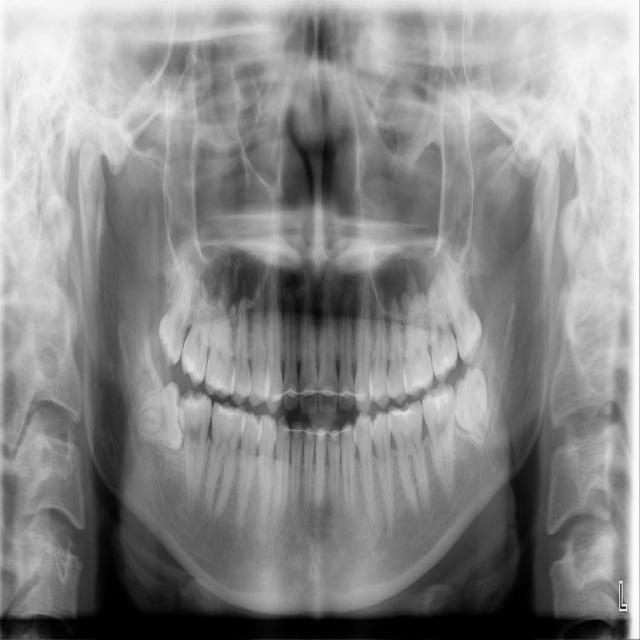3M ESPE Implant: (152, 243, 203, 368)
52: (384, 399, 430, 446), (201, 350, 240, 402), (399, 349, 436, 400), (208, 399, 248, 445), (421, 380, 457, 431), (430, 331, 461, 384), (181, 334, 207, 388)
73: (570, 598, 574, 606)
BioHorizons Implant: (424, 255, 461, 384)
BioLife Implant: (429, 249, 492, 366)
Biomet 3i Implant: (451, 367, 491, 446)
Blue Sky Bio Implant: (419, 380, 457, 504)
Caries: (176, 255, 228, 389)
Implant: (179, 390, 212, 518)
Keystone Dental Implant: (129, 380, 191, 456)
